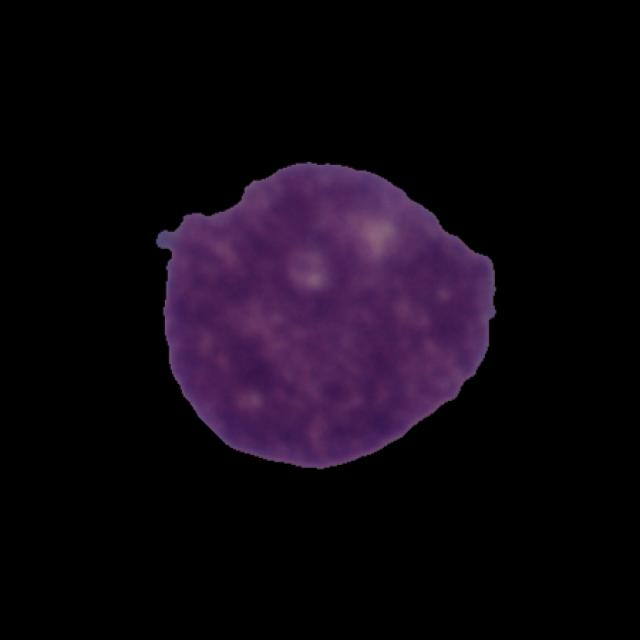ALL Positive Cell: (163, 167, 495, 460)
